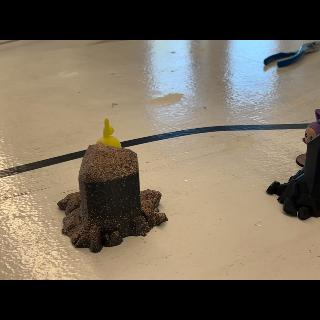teletubby: (96, 118, 121, 147)
